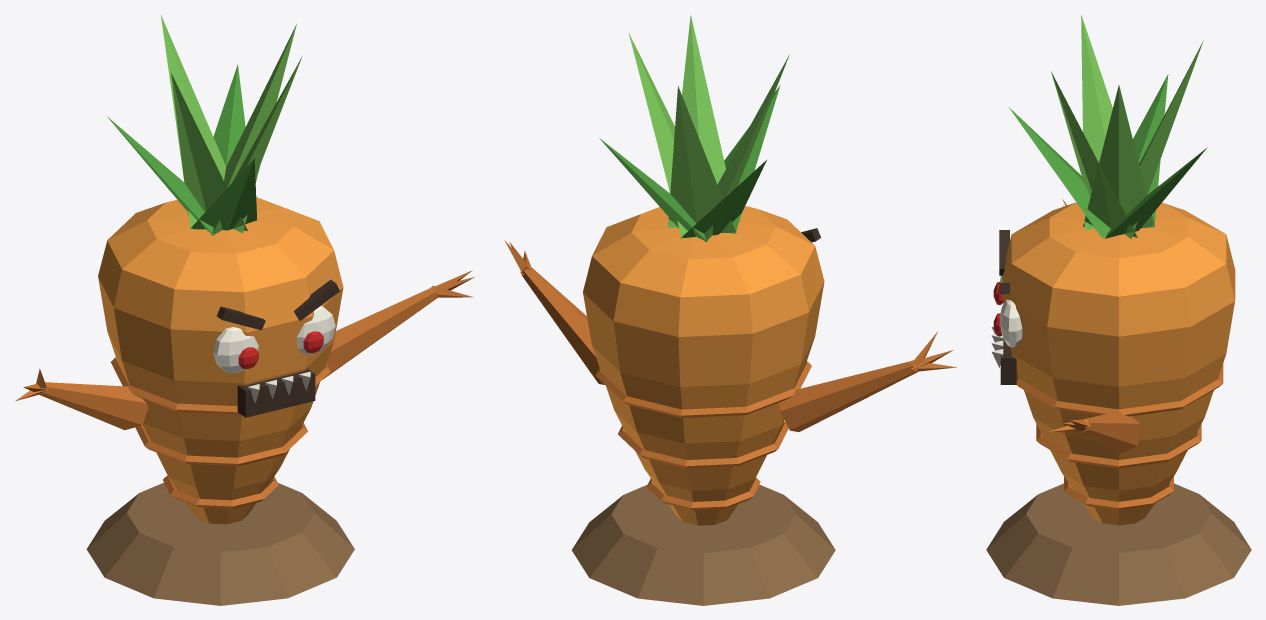
The model's file is CropBoss.fbx.
3 views of the same model, side by side, from view 1: azimuth 30°, elevation 25°; view 2: azimuth 150°, elevation 25°; view 3: azimuth 270°, elevation 25° (orthographic).
Parts seen in each view (by area): view 1: CropBoss; view 2: CropBoss; view 3: CropBoss.
Boxes of the visible parts, box(x1,y1,x2,y2) form: CropBoss: box(15, 14, 474, 605); CropBoss: box(504, 14, 956, 605); CropBoss: box(986, 14, 1251, 605).
Bounding box in the file's own units: 3.96 × 4.18 × 2.
